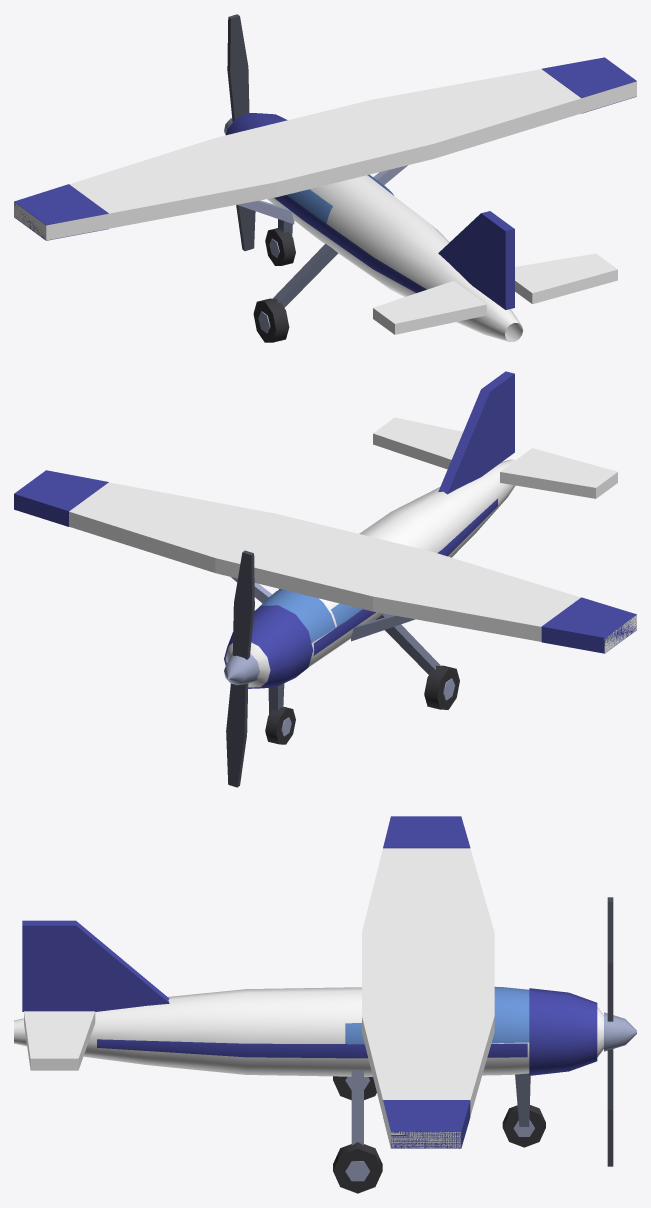
The model's file is avion-leger.glb.
3 renders of one model, top to bottom at view 1: azimuth 30°, elevation 25°; view 2: azimuth 150°, elevation 25°; view 3: azimuth 270°, elevation 25°, orthographic. The views are drawn at different scales.
Parts seen in each view (by area): view 1: aile, fuselage, derive, stabilisateur-gauche, stabilisateur-droit, saumon-gauche, saumon-droite, pale-1, filet-gauche, jambe-gauche, roue-gauche-bandage, roue-avant-bandage (+4 smaller); view 2: aile, fuselage, derive, stabilisateur-gauche, capot-moteur, saumon-gauche, saumon-droite, stabilisateur-droit, pale-1, pale-2, verriere, filet-gauche (+5 smaller); view 3: aile, fuselage, derive, capot-moteur, filet-droite, saumon-droite, stabilisateur-droit, saumon-gauche, verriere, roue-droite-bandage, roue-avant-bandage, jambe-droite (+4 smaller).
Boxes of the visible parts, x1,y1,x2,y2 form: aile: [14, 69, 636, 240]; fuselage: [267, 175, 523, 341]; derive: [438, 211, 514, 309]; stabilisateur-gauche: [373, 281, 486, 334]; stabilisateur-droit: [515, 253, 617, 304]; saumon-gauche: [14, 184, 108, 240]; saumon-droite: [542, 57, 636, 113]; pale-1: [227, 14, 249, 121]; filet-gauche: [274, 195, 426, 292]; jambe-gauche: [272, 243, 338, 307]; roue-gauche-bandage: [253, 298, 289, 342]; roue-avant-bandage: [265, 228, 295, 265]; aile: [69, 482, 636, 652]; fuselage: [225, 459, 515, 687]; derive: [438, 371, 514, 494]; stabilisateur-gauche: [500, 448, 617, 498]; capot-moteur: [224, 605, 313, 688]; saumon-gauche: [541, 597, 636, 653]; saumon-droite: [14, 470, 108, 526]; stabilisateur-droit: [373, 417, 462, 469]; pale-1: [232, 550, 254, 659]; pale-2: [226, 683, 248, 787]; verriere: [258, 589, 335, 642]; filet-gauche: [313, 498, 497, 655]; aile: [362, 848, 494, 1148]; fuselage: [14, 987, 603, 1076]; derive: [22, 920, 169, 1011]; capot-moteur: [529, 988, 597, 1075]; filet-droite: [97, 1039, 527, 1058]; saumon-droite: [383, 1100, 470, 1148]; stabilisateur-droit: [24, 1011, 95, 1070]; saumon-gauche: [383, 816, 470, 848]; verriere: [491, 986, 529, 1043]; roue-droite-bandage: [333, 1142, 382, 1193]; roue-avant-bandage: [502, 1105, 545, 1147]; jambe-droite: [351, 1070, 363, 1145].
Bounding box in the file's own units: 0.45 × 0.1721 × 0.376.
